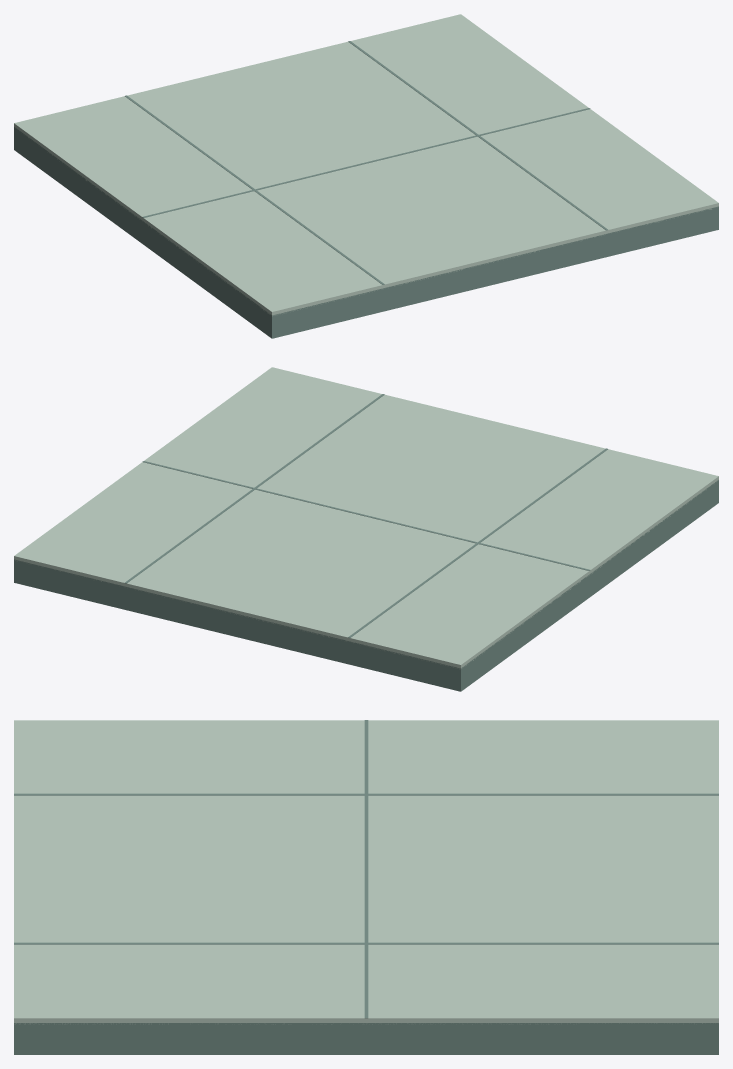
File: floor_hs_lino.glb
3 renders of one model, top to bottom at view 1: azimuth 30°, elevation 25°; view 2: azimuth 150°, elevation 25°; view 3: azimuth 270°, elevation 25°, orthographic. The views are drawn at different scales.
Parts seen in each view (by area): view 1: floor_hs_lino; view 2: floor_hs_lino; view 3: floor_hs_lino.
Boxes of the visible parts, left/top/right/bottom form: floor_hs_lino: left=14, top=14, right=718, bottom=338; floor_hs_lino: left=14, top=367, right=718, bottom=691; floor_hs_lino: left=14, top=720, right=718, bottom=1054.
Bounding box in the file's own units: 4 × 0.2315 × 4.
